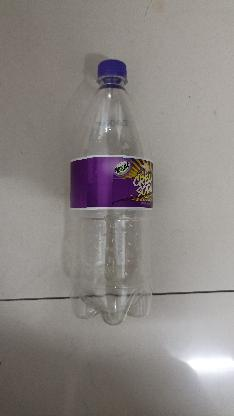Plastic Bottle: (66, 58, 154, 324)
